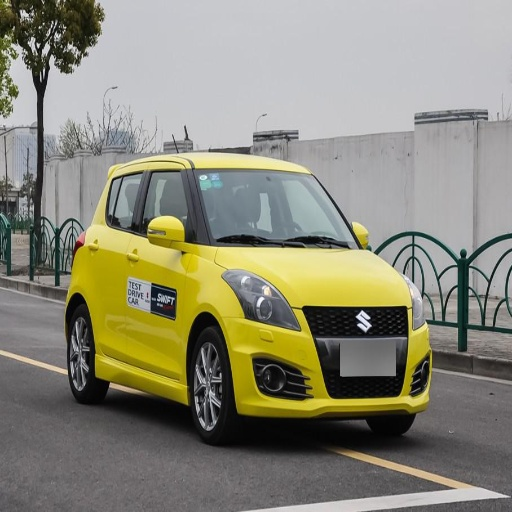front_bumper: (228, 305, 429, 416)
front_right_door: (126, 166, 195, 377)
front_right_light: (225, 273, 302, 329)
hood: (215, 248, 412, 305)
